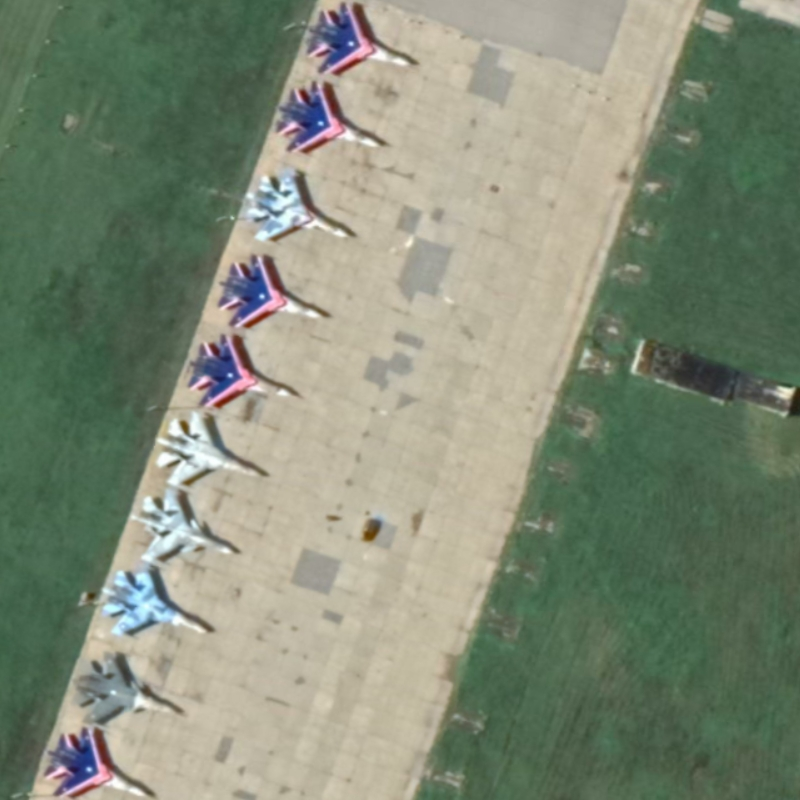A1: (240, 160, 352, 244), (153, 408, 266, 491), (273, 77, 383, 159), (214, 251, 326, 331), (98, 561, 210, 640), (184, 330, 295, 409), (39, 725, 154, 800), (303, 1, 414, 76)
A19: (126, 486, 238, 570), (71, 648, 181, 729)
